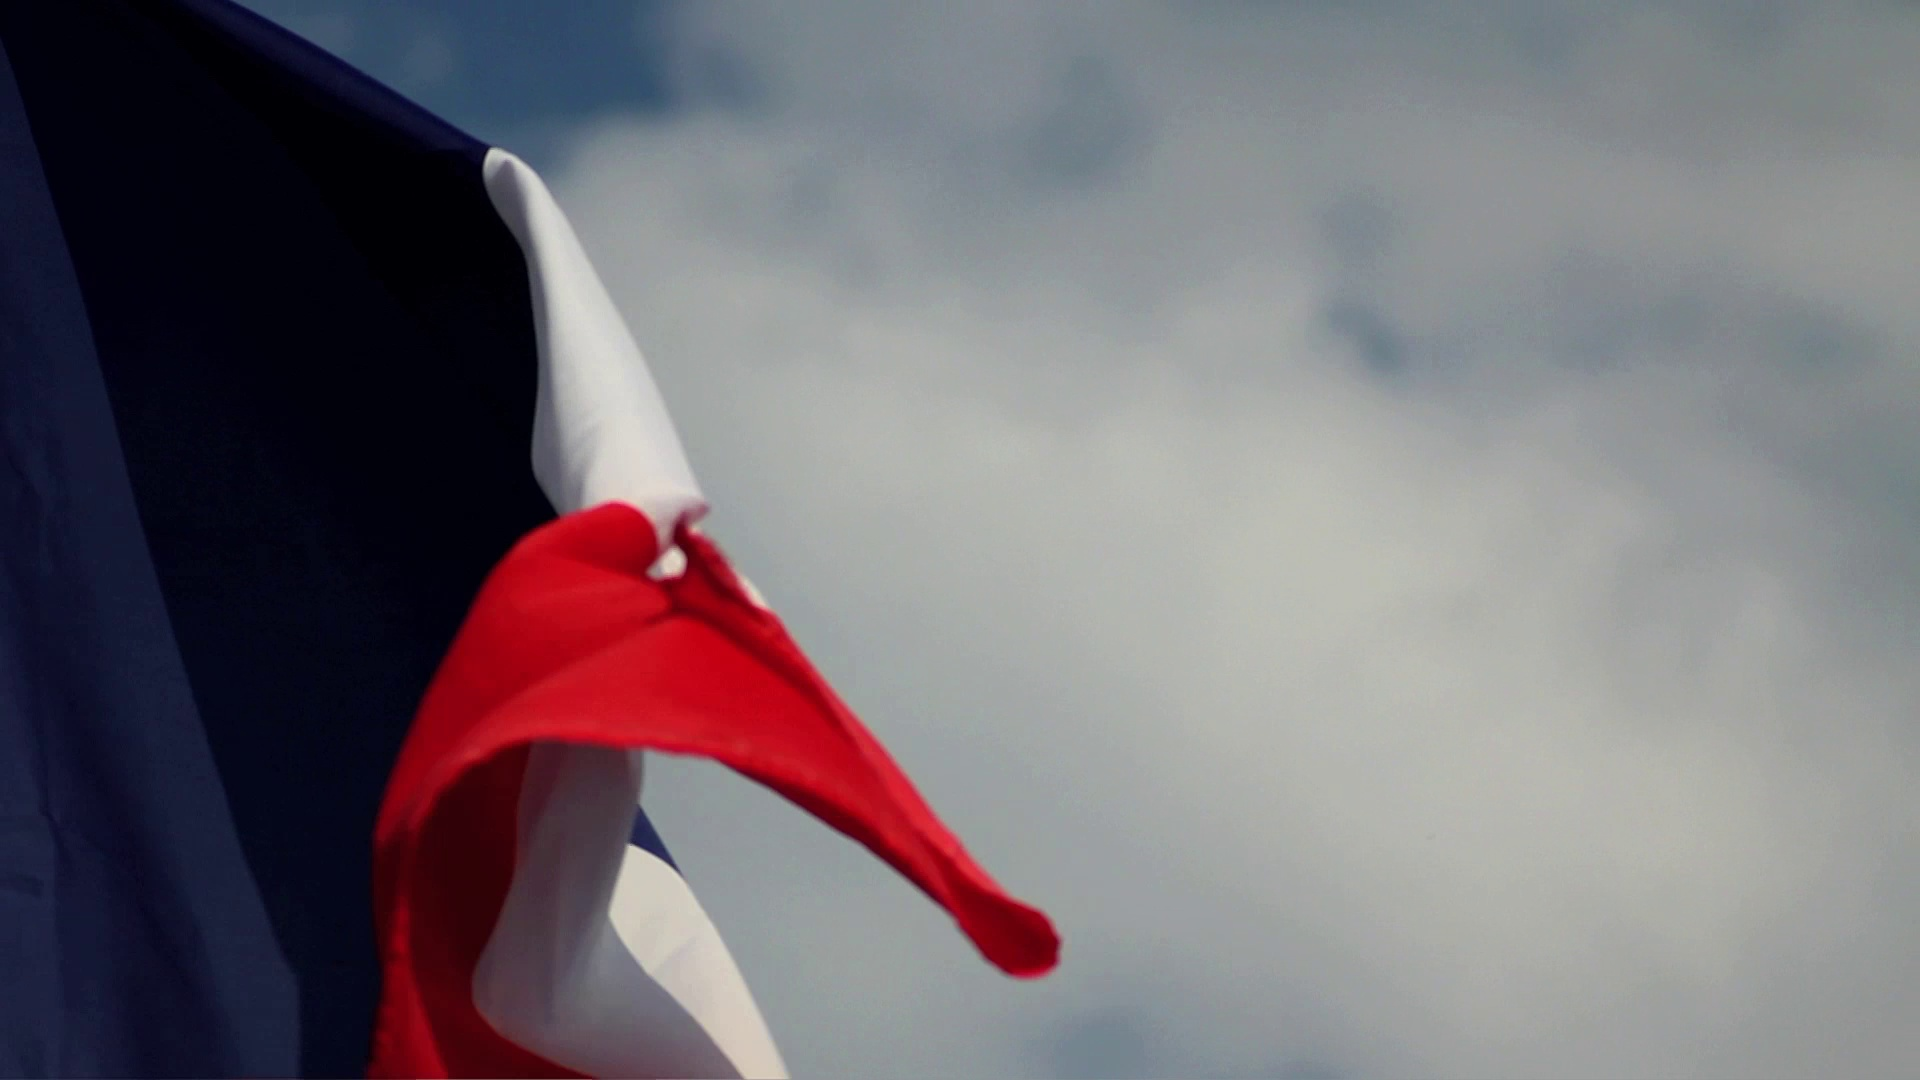French Flag: (1, 1, 1067, 1080)
